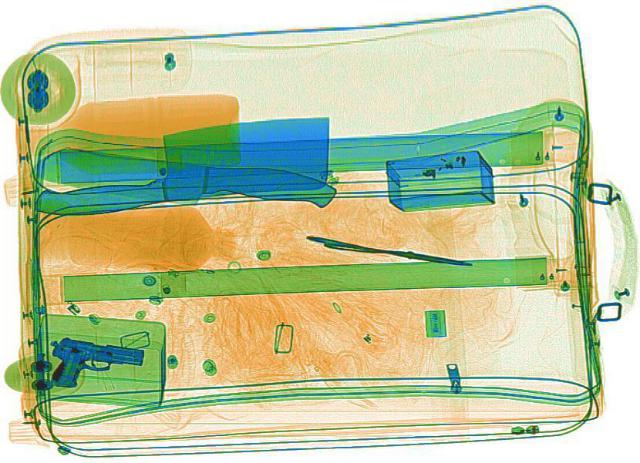Gun: (34, 331, 150, 399)
Knife: (13, 108, 347, 219), (20, 130, 342, 225)
